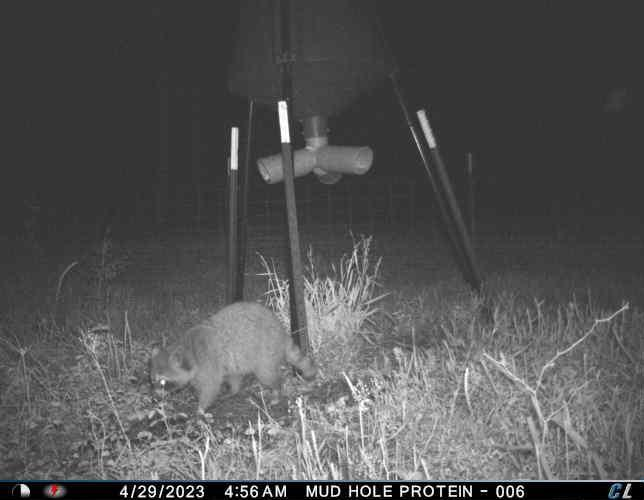Raccoon: (144, 297, 319, 421)
